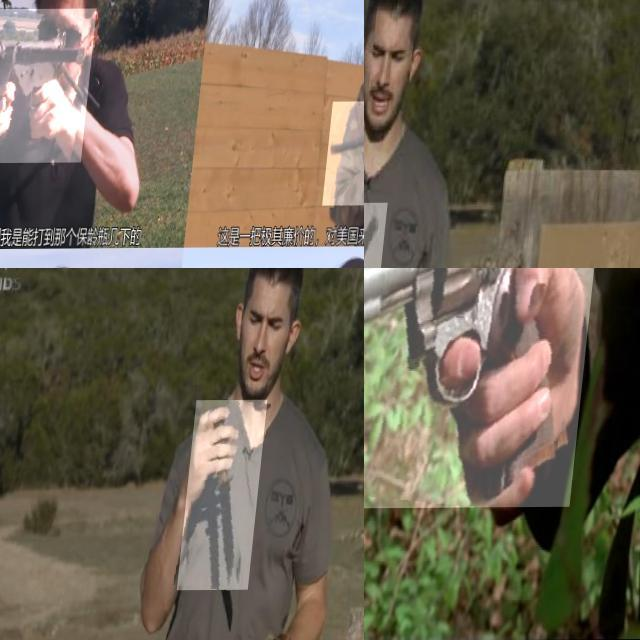-: (185, 400, 271, 591), (364, 203, 398, 268)
gun-knife-thesis - v11 Yolov5 augmented: (364, 268, 608, 509), (0, 8, 98, 163), (328, 101, 364, 206)
